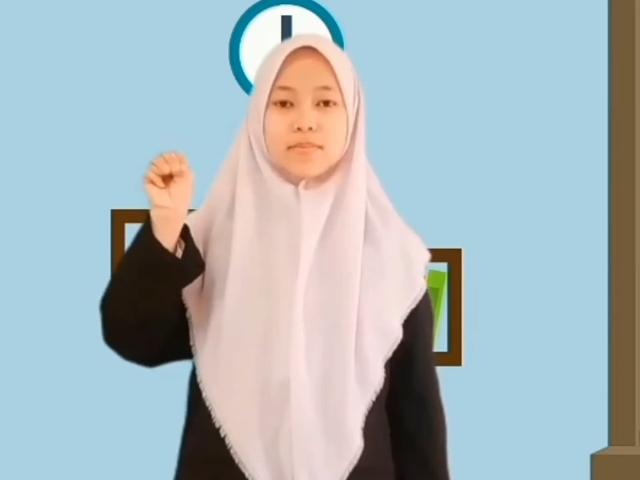N: (141, 147, 197, 216)
